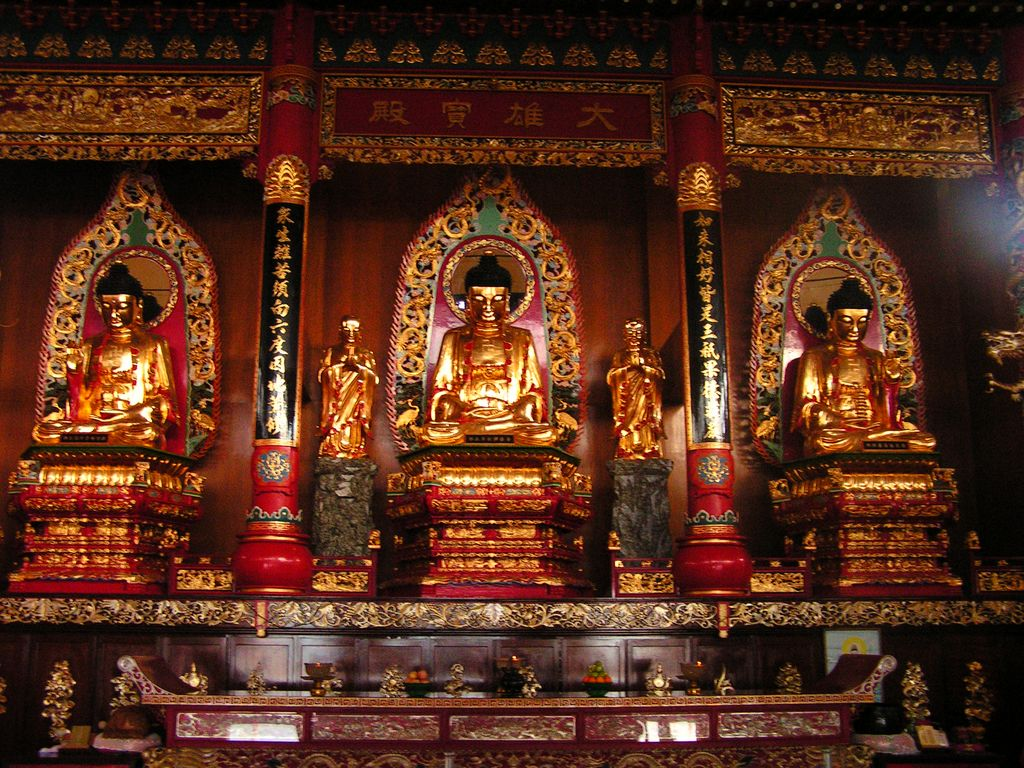Buddhist Temple: (22, 178, 918, 572)
